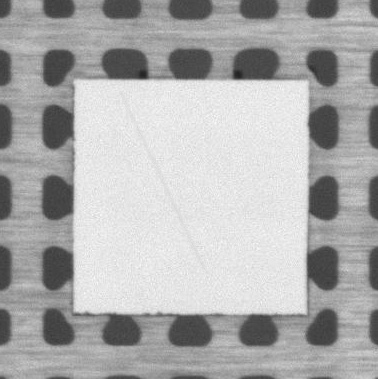DIE_CRACK: (121, 93, 203, 270)
